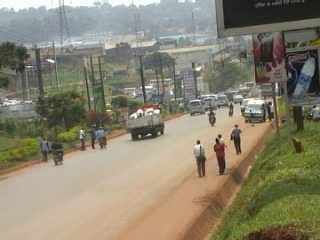Car: (231, 95, 245, 104)
Motorcycle: (205, 107, 218, 127), (226, 100, 237, 121)
